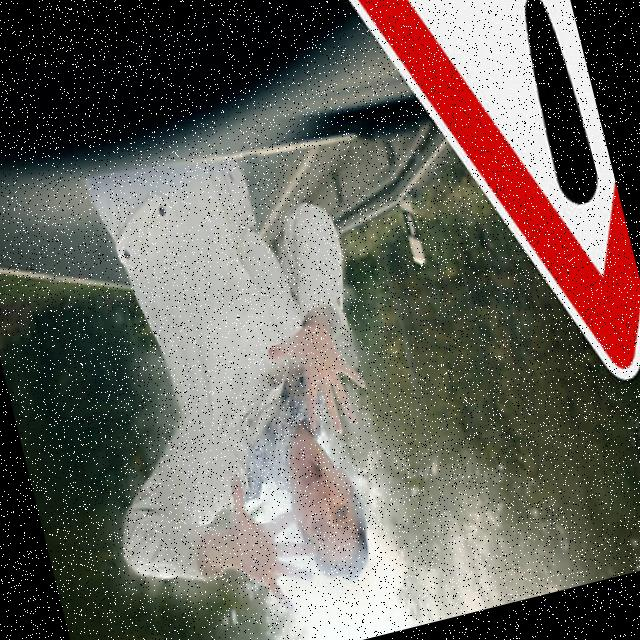warning: (313, 0, 640, 443)
